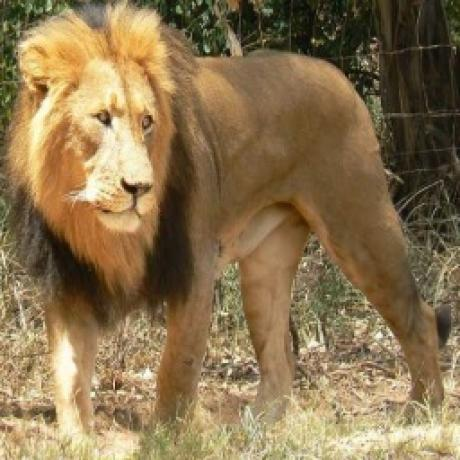Lion: (0, 0, 460, 425)
